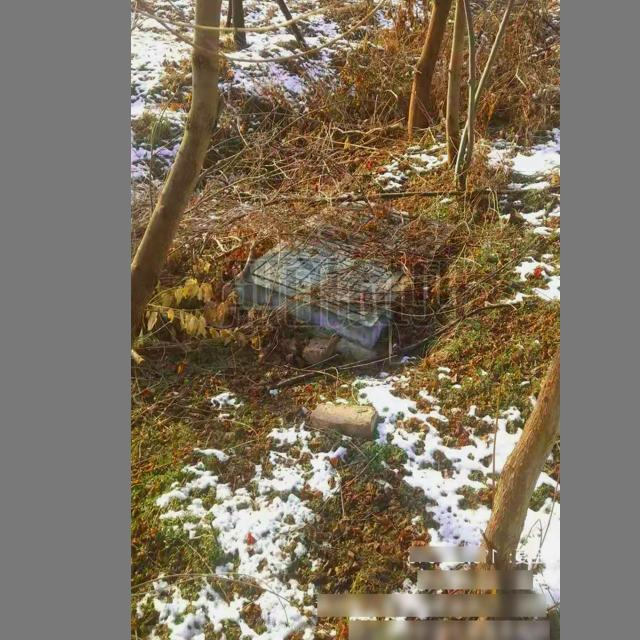circle: (233, 192, 455, 354)
